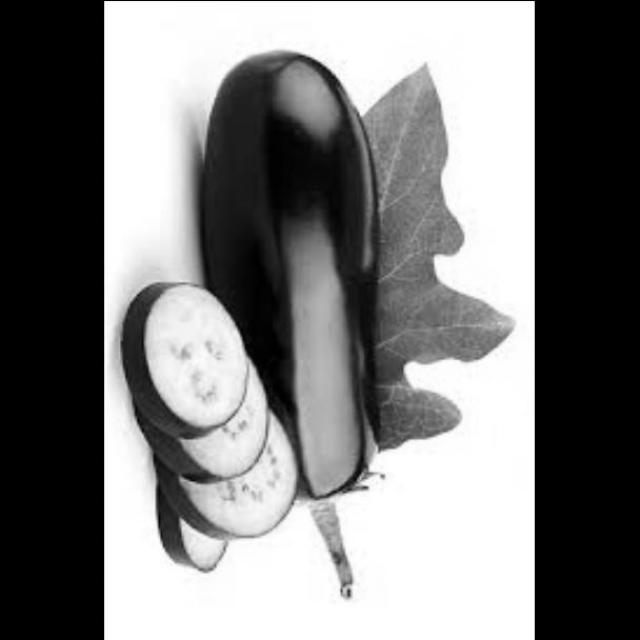eggplant: (205, 16, 406, 532), (115, 266, 304, 582)
